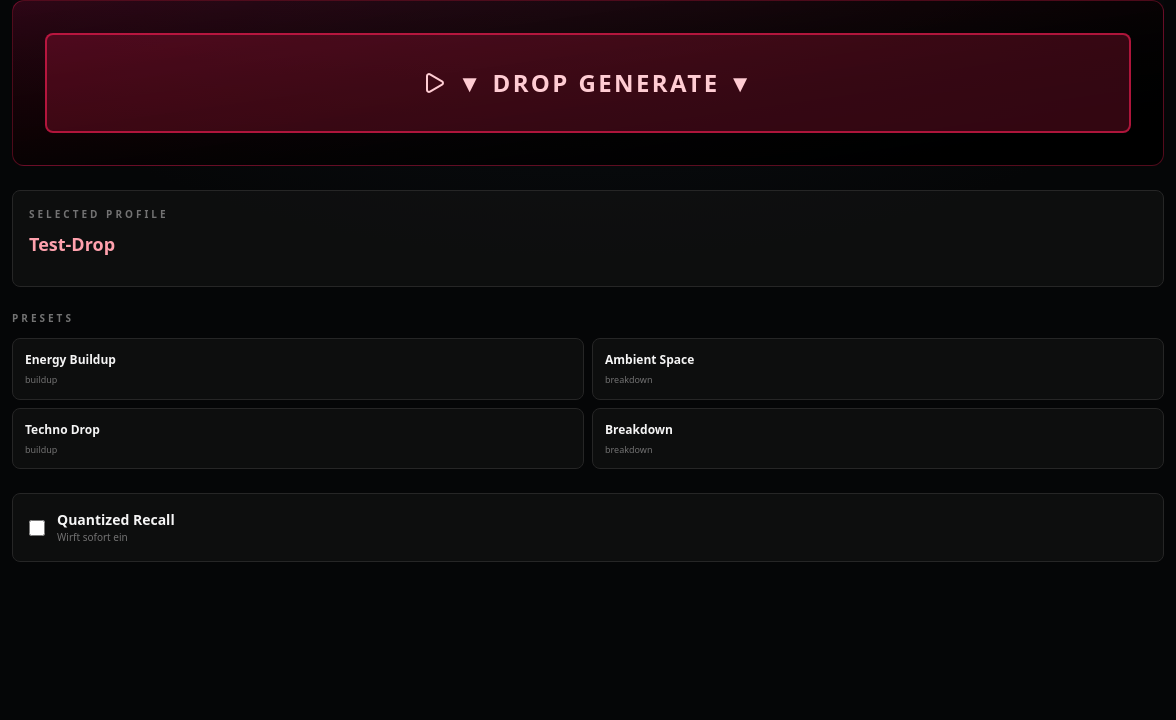
Test: DropGeneratorPanel · Quantized Recall › zeigt den Zustand sichtbar an (Knopf + Beschriftung)
This screenshot has width=1176, height=720.
Expected: the text "Wirft sofort ein" is shown, x1=57 y1=530 x2=128 y2=544
Click the checkbox labelled "Quantized Recall" at (37, 528), box x1=29 y1=520 x2=45 y2=536
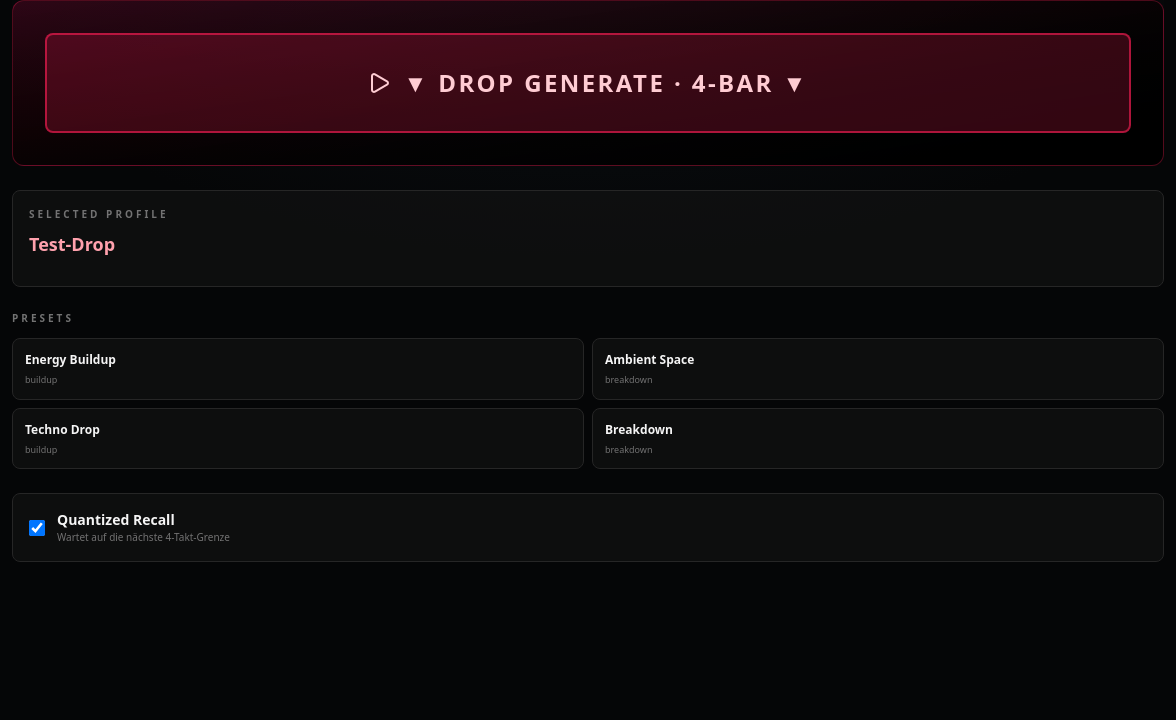
Now the button "▼ DROP GENERATE · 4-BAR ▼" is shown, box x1=45 y1=33 x2=1131 y2=133
Now the text "Wartet auf die nächste 4-Takt-Grenze" is shown, box x1=57 y1=530 x2=230 y2=545
